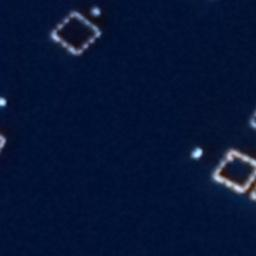square_solid: (49, 10, 102, 57), (211, 147, 256, 194)
